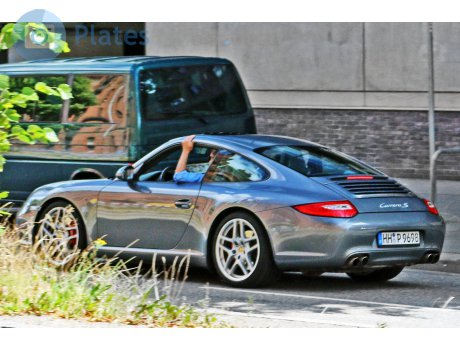License Plates: (374, 228, 426, 243)
